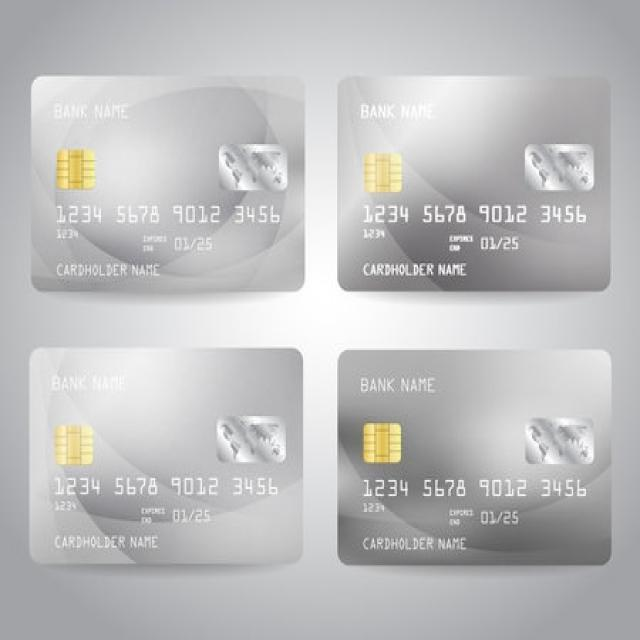payment_card: (27, 345, 303, 566), (336, 73, 612, 292), (336, 347, 612, 566), (26, 77, 304, 293)
